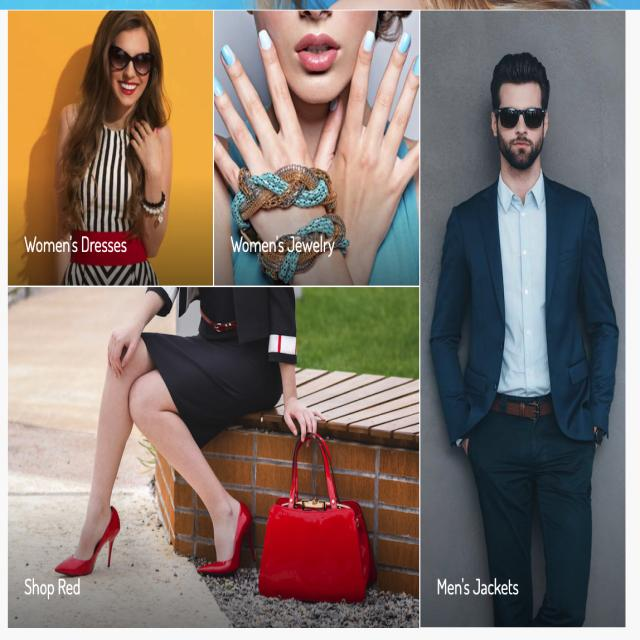CategoryTile: (7, 286, 420, 626), (420, 10, 626, 626), (213, 9, 420, 285), (8, 9, 213, 285)
